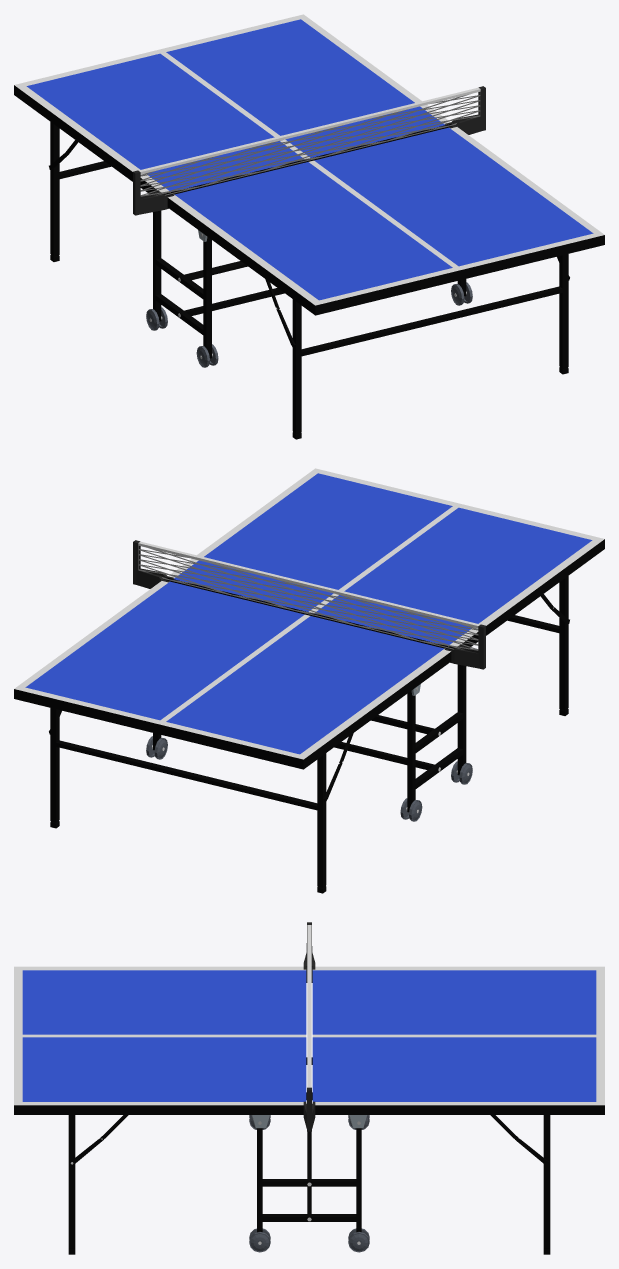
The model's file is table.fbx.
3 renders of one model, top to bottom at view 1: azimuth 30°, elevation 25°; view 2: azimuth 150°, elevation 25°; view 3: azimuth 270°, elevation 25°, orthographic.
Parts seen in each view (by area): view 1: Table, under_table2, Plane, under_table, Table_net.001, wheel1; view 2: Table, under_table2, Plane, under_table, Table_net.001, wheel1; view 3: Table, under_table, under_table2, Table_net.001, wheel1.
Boxes of the visible parts, x1=… form: Table: x1=14, y1=14, x2=604, y2=315; under_table2: x1=50, y1=122, x2=568, y2=439; Plane: x1=140, y1=91, x2=480, y2=196; under_table: x1=153, y1=210, x2=466, y2=358; Table_net.001: x1=133, y1=86, x2=485, y2=215; wheel1: x1=146, y1=282, x2=472, y2=367; Table: x1=14, y1=468, x2=604, y2=769; under_table2: x1=50, y1=576, x2=568, y2=893; Plane: x1=138, y1=545, x2=478, y2=650; under_table: x1=153, y1=664, x2=466, y2=812; Table_net.001: x1=133, y1=540, x2=485, y2=669; wheel1: x1=146, y1=736, x2=472, y2=821; Table: x1=14, y1=966, x2=604, y2=1114; under_table: x1=257, y1=1057, x2=361, y2=1232; under_table2: x1=68, y1=1115, x2=550, y2=1254; Table_net.001: x1=303, y1=922, x2=315, y2=1131; wheel1: x1=249, y1=1115, x2=369, y2=1252.
Bounding box in the file's own units: 184 × 93.63 × 274.
